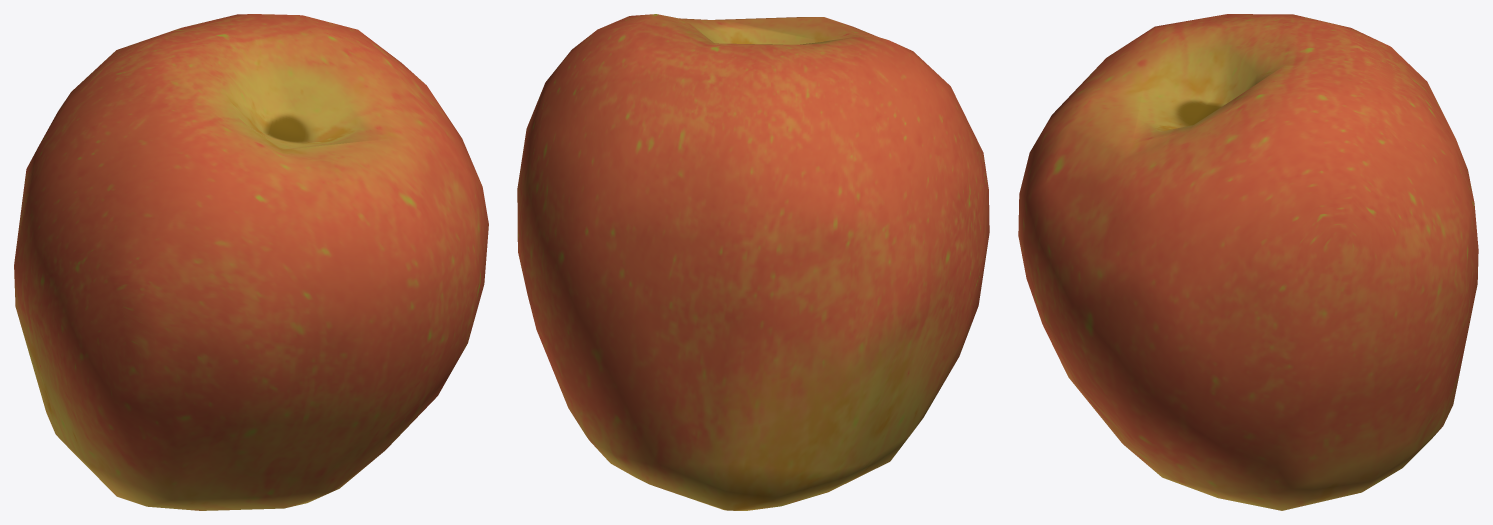
The model's file is SM_Apple.fbx.
3 renders of one model, left to right at view 1: azimuth 30°, elevation 25°; view 2: azimuth 150°, elevation 25°; view 3: azimuth 270°, elevation 25°, orthographic.
Parts seen in each view (by area): view 1: SM_Apple_LOD0; view 2: SM_Apple_LOD0; view 3: SM_Apple_LOD0.
Boxes of the visible parts, x1=… form: SM_Apple_LOD0: x1=14, y1=14, x2=488, y2=510; SM_Apple_LOD0: x1=517, y1=14, x2=989, y2=510; SM_Apple_LOD0: x1=1018, y1=14, x2=1478, y2=510.
Size of the model in its own units: 11.5 by 11.47 by 11.72.
1 material, 1 textured.
